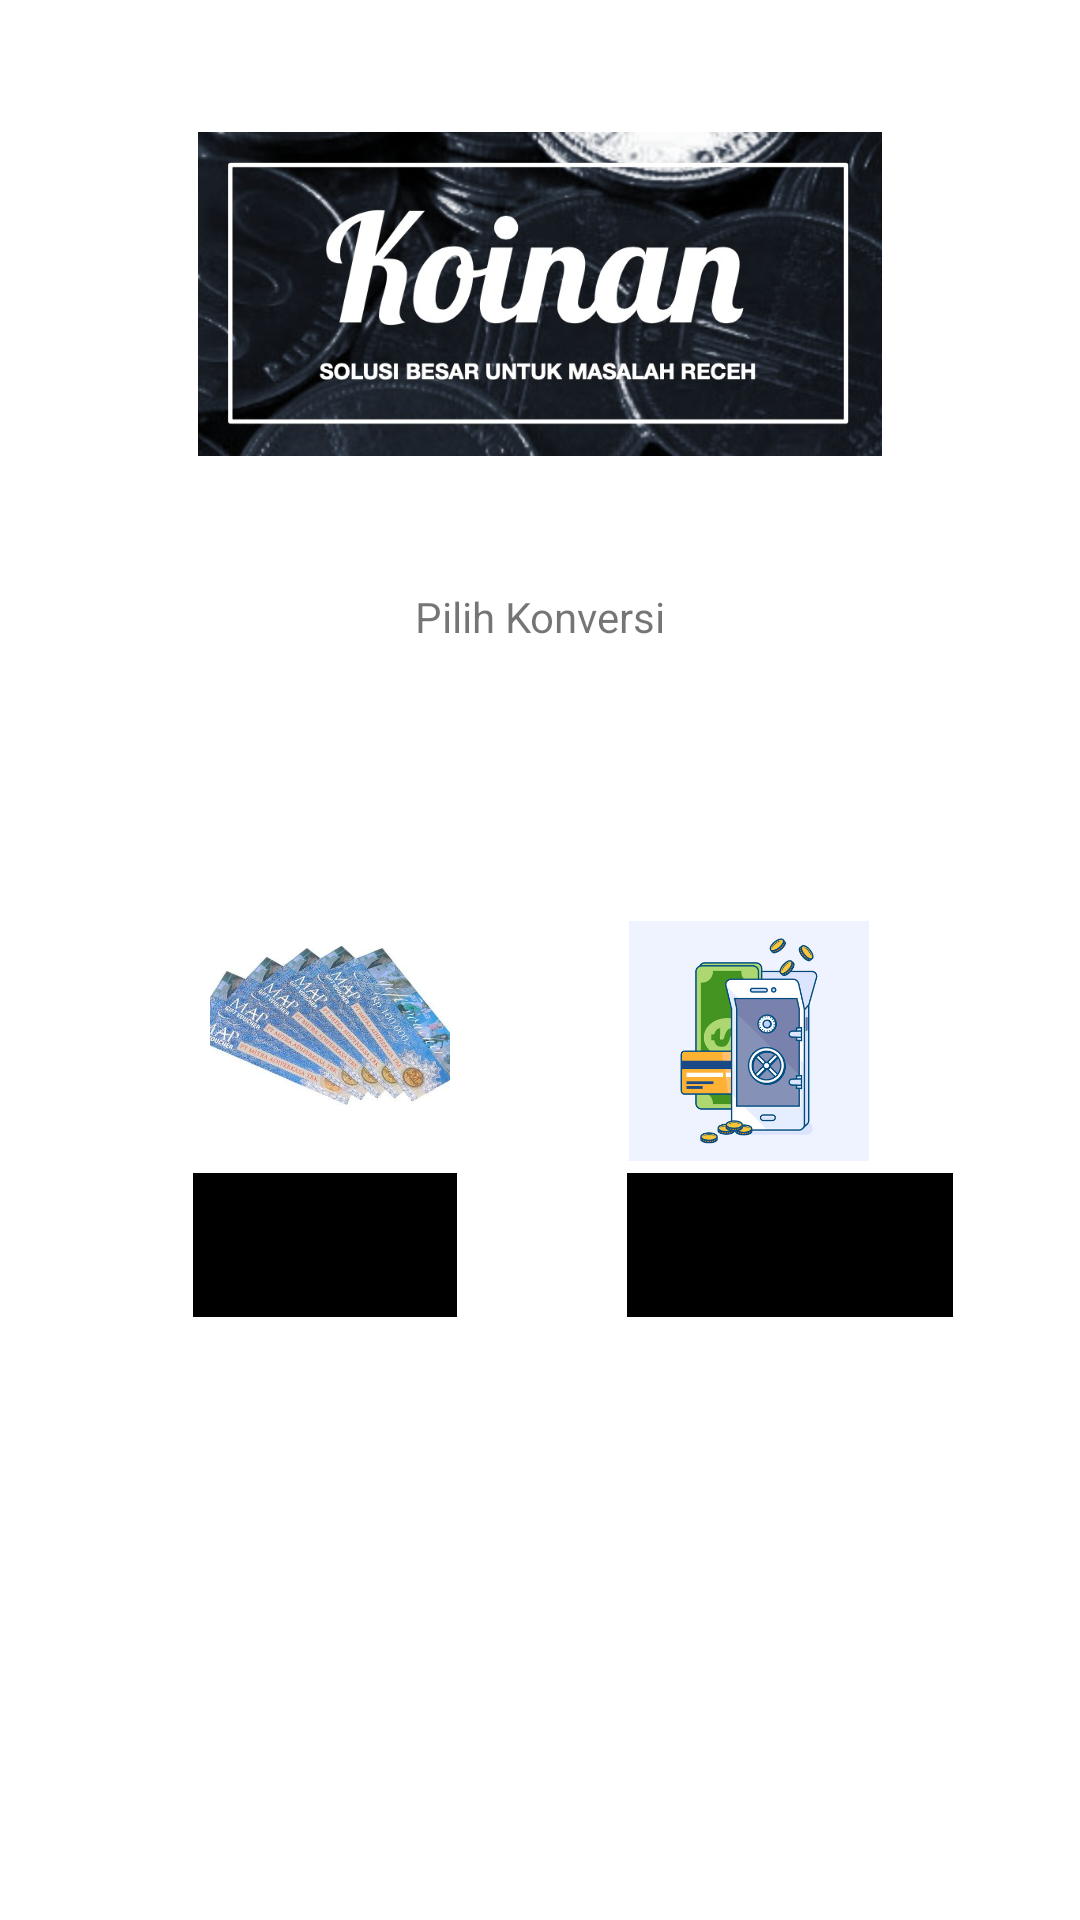

Where to tap for icons on this 1080*1920 app screen, as [x,y]:
digital money: [749,1041]
